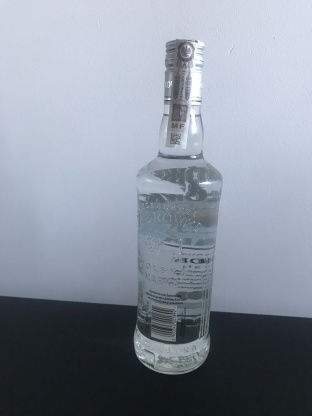nakretka: (162, 34, 206, 110)
